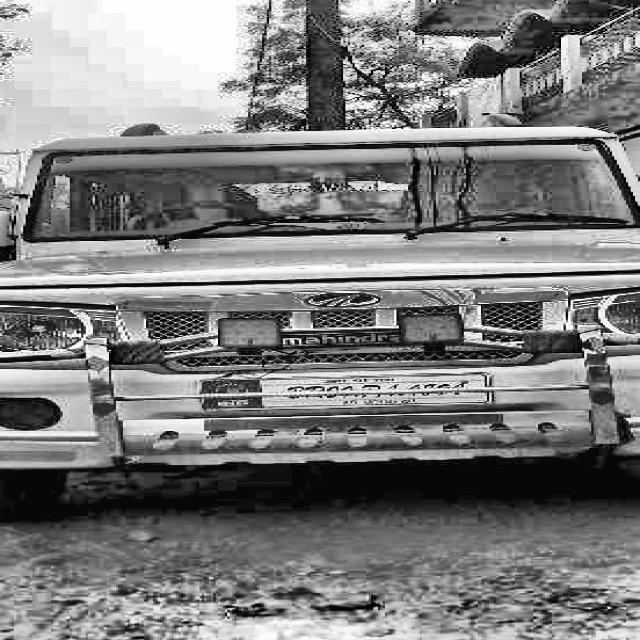light_vehicle: (0, 127, 640, 468)
